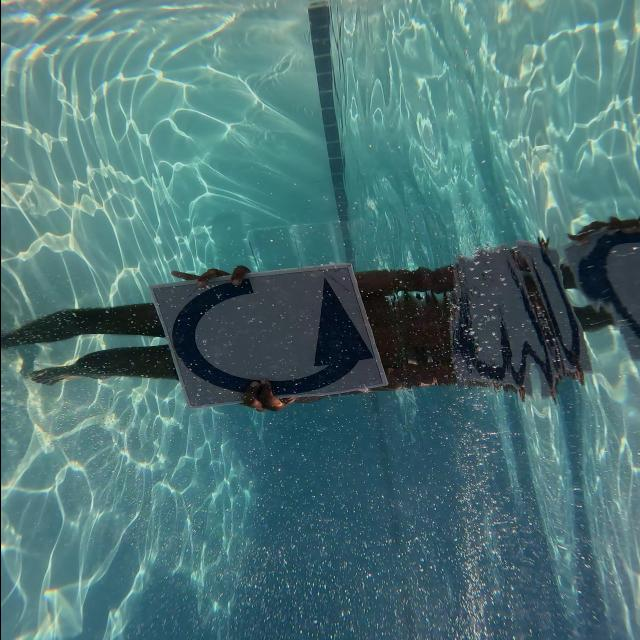blue_side: (150, 277, 384, 399)
